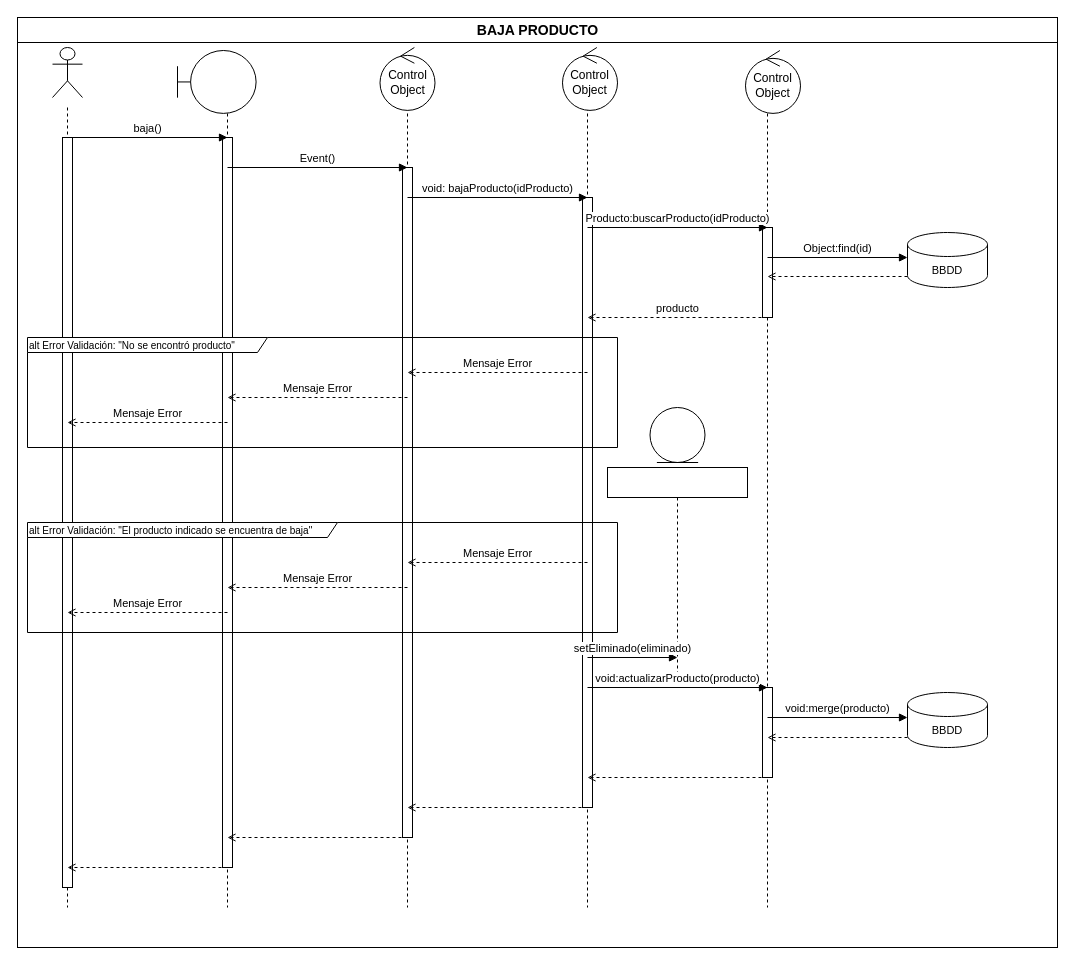
The diagram is 1076 pixels wide and 965 high, and some of its shapes have lost their labels. Here are the shapes that lost their labels. From the top down, the centre of each, then its label:
At point (67, 72): "Administrador".
At point (216, 81): "Boundary Object".
At point (677, 434): "Entity Object".
At point (677, 482): "producto : Producto".
